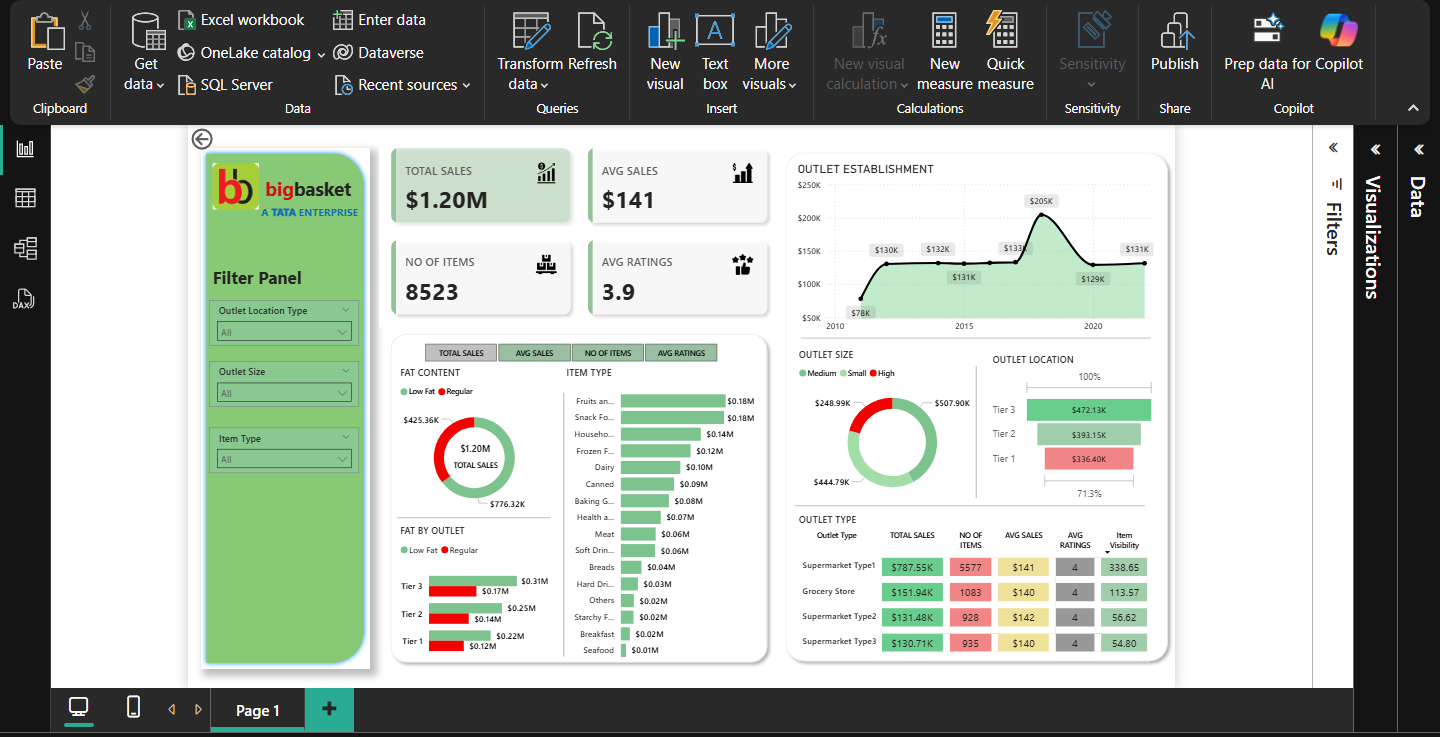

The page's visual inventory and layout, read from the dashboard file:
{"tool":"powerbi","page":{"name":"Page 1","canvas":[1400,800],"ordinal":0},"visuals":[{"type":"shape","box":[17.6,31.3,240.2,740.2],"z":0},{"type":"textbox","box":[105.2,67.6,458.5,77.7],"z":1000},{"type":"image","box":[30.1,15,75.2,145.3],"z":2000},{"type":"textbox","box":[87.7,107.7,248,52.6],"z":3000},{"type":"cardVisual","fields":{"Data":["BlinkIT Grocery Data.TOTAL SALES","BlinkIT Grocery Data.AVG SALES","BlinkIT Grocery Data.NO OF ITEMS","BlinkIT Grocery Data.AVG RATINGS"]},"box":[271.5,15.6,568.4,271.5],"z":4000},{"type":"shape","box":[279.3,287.1,552.7,484.4],"z":5000},{"type":"donutChart","title":"FAT CONTENT","fields":{"Y":["BlinkIT Grocery Data.TOTAL SALES"],"Category":["BlinkIT Grocery Data.Item Fat Content"]},"box":[296.9,341.8,220.7,214.8],"z":6000},{"type":"slicer","fields":{"Values":["Metrices.Metrices"]},"box":[310.5,302.7,464.8,39.1],"z":7000},{"type":"cardVisual","fields":{"Data":["BlinkIT Grocery Data.TOTAL SALES"]},"box":[343.8,410.2,128.9,119.1],"z":8000},{"type":"clusteredBarChart","title":"FAT BY OUTLET","fields":{"Y":["BlinkIT Grocery Data.TOTAL SALES"],"Category":["BlinkIT Grocery Data.Outlet Location Type"],"Series":["BlinkIT Grocery Data.Item Fat Content"]},"box":[296.9,566.4,220.7,203.1],"z":9000},{"type":"shape","box":[296.9,535.2,218.8,43],"z":10000},{"type":"shape","box":[423.8,378.9,218.8,375],"z":11000},{"type":"barChart","title":"ITEM TYPE","fields":{"Y":["BlinkIT Grocery Data.TOTAL SALES"],"Category":["BlinkIT Grocery Data.Item Type"]},"box":[533.2,341.8,277.3,427.7],"z":12000},{"type":"shape","box":[839.8,29.3,560.5,740.2],"z":13000},{"type":"lineChart","title":"OUTLET ESTABLISHMENT","fields":{"Y":["BlinkIT Grocery Data.TOTAL SALES"],"Category":["BlinkIT Grocery Data.Outlet Establishment Year"]},"box":[861.3,50.8,515.6,252],"z":14000},{"type":"shape","box":[869.1,293,498,19.5],"z":15000},{"type":"donutChart","title":"OUTLET SIZE","fields":{"Y":["BlinkIT Grocery Data.TOTAL SALES"],"Category":["BlinkIT Grocery Data.Outlet Size"]},"box":[863.3,316.4,275.4,224.6],"z":16000},{"type":"shape","box":[1009.8,341.8,218.8,187.5],"z":17000},{"type":"funnel","title":"OUTLET LOCATION","fields":{"Y":["Sum(BlinkIT Grocery Data.Sales)"],"Category":["BlinkIT Grocery Data.Outlet Location Type"]},"box":[1136.7,322.3,240.2,214.8],"z":18000},{"type":"shape","box":[861.3,531.3,498,19.5],"z":19000},{"type":"pivotTable","title":"OUTLET TYPE","fields":{"Values":["BlinkIT Grocery Data.TOTAL SALES","BlinkIT Grocery Data.NO OF ITEMS","BlinkIT Grocery Data.AVG SALES","BlinkIT Grocery Data.AVG RATINGS","Sum(BlinkIT Grocery Data.Item Visibility)"],"Rows":["BlinkIT Grocery Data.Outlet Type"]},"box":[863.3,550.8,537.1,224.6],"z":20000},{"type":"actionButton","box":[0,0,100,40],"z":21000},{"type":"slicer","fields":{"Values":["BlinkIT Grocery Data.Outlet Location Type"]},"box":[29.3,248,212.9,64.5],"z":22000},{"type":"slicer","fields":{"Values":["BlinkIT Grocery Data.Outlet Size"]},"box":[29.3,335.9,212.9,64.5],"z":23000},{"type":"slicer","fields":{"Values":["BlinkIT Grocery Data.Item Type"]},"box":[29.3,429.7,212.9,64.5],"z":24000},{"type":"textbox","box":[29.3,195.3,300.8,52.7],"z":25000}]}

Visuals, with their boxes on the page's 1400x800 design canvas (x1, y1, x2, y2). These are canvas units, not pixel positions in the 1440x737 screenshot, which may show the page scaled, cropped or inside an application window:
shape: (x1=18, y1=31, x2=258, y2=772)
textbox: (x1=105, y1=68, x2=564, y2=145)
image: (x1=30, y1=15, x2=105, y2=160)
textbox: (x1=88, y1=108, x2=336, y2=160)
cardVisual - BlinkIT Grocery Data.TOTAL SALES x BlinkIT Grocery Data.AVG SALES: (x1=272, y1=16, x2=840, y2=287)
shape: (x1=279, y1=287, x2=832, y2=772)
"FAT CONTENT" donutChart: (x1=297, y1=342, x2=518, y2=557)
slicer - Metrices.Metrices: (x1=310, y1=303, x2=775, y2=342)
cardVisual - BlinkIT Grocery Data.TOTAL SALES: (x1=344, y1=410, x2=473, y2=529)
"FAT BY OUTLET" clusteredBarChart: (x1=297, y1=566, x2=518, y2=770)
shape: (x1=297, y1=535, x2=516, y2=578)
shape: (x1=424, y1=379, x2=643, y2=754)
"ITEM TYPE" barChart: (x1=533, y1=342, x2=810, y2=770)
shape: (x1=840, y1=29, x2=1400, y2=770)
"OUTLET ESTABLISHMENT" lineChart: (x1=861, y1=51, x2=1377, y2=303)
shape: (x1=869, y1=293, x2=1367, y2=312)
"OUTLET SIZE" donutChart: (x1=863, y1=316, x2=1139, y2=541)
shape: (x1=1010, y1=342, x2=1229, y2=529)
"OUTLET LOCATION" funnel: (x1=1137, y1=322, x2=1377, y2=537)
shape: (x1=861, y1=531, x2=1359, y2=551)
"OUTLET TYPE" pivotTable: (x1=863, y1=551, x2=1400, y2=775)
actionButton: (x1=0, y1=0, x2=100, y2=40)
slicer - BlinkIT Grocery Data.Outlet Location Type: (x1=29, y1=248, x2=242, y2=312)
slicer - BlinkIT Grocery Data.Outlet Size: (x1=29, y1=336, x2=242, y2=400)
slicer - BlinkIT Grocery Data.Item Type: (x1=29, y1=430, x2=242, y2=494)
textbox: (x1=29, y1=195, x2=330, y2=248)
